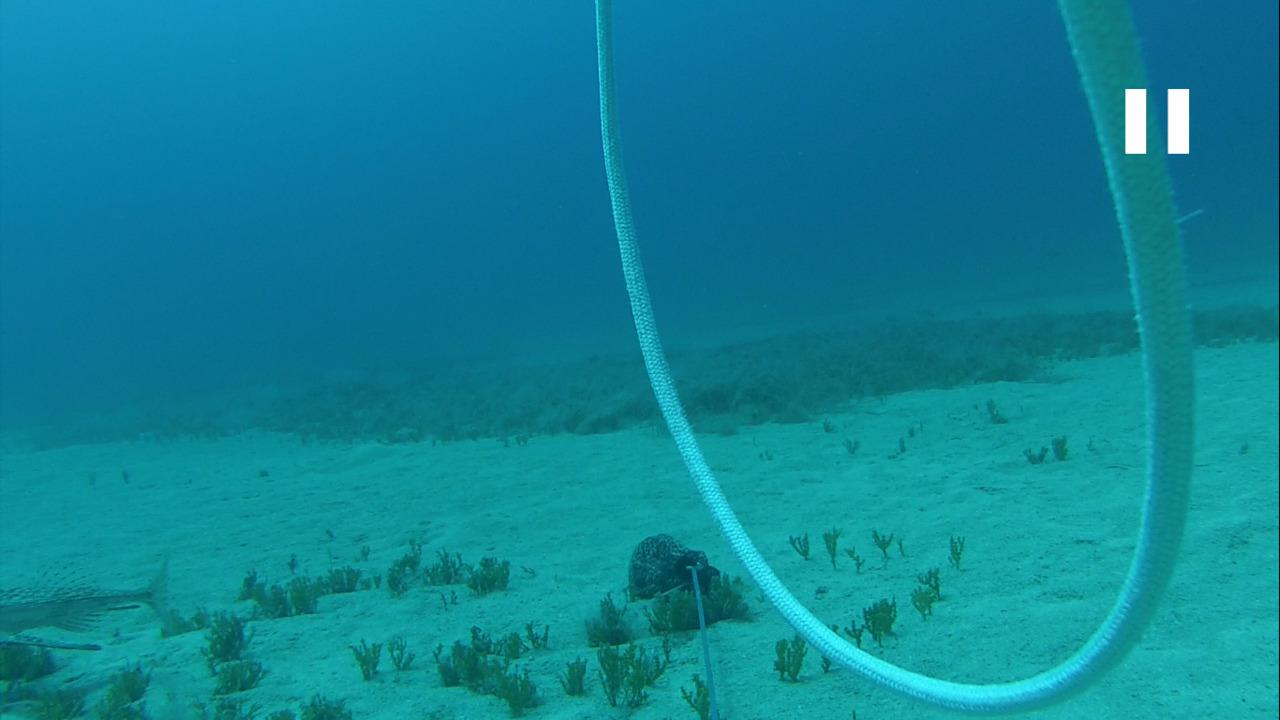dactylopterus: (3, 555, 184, 658)
